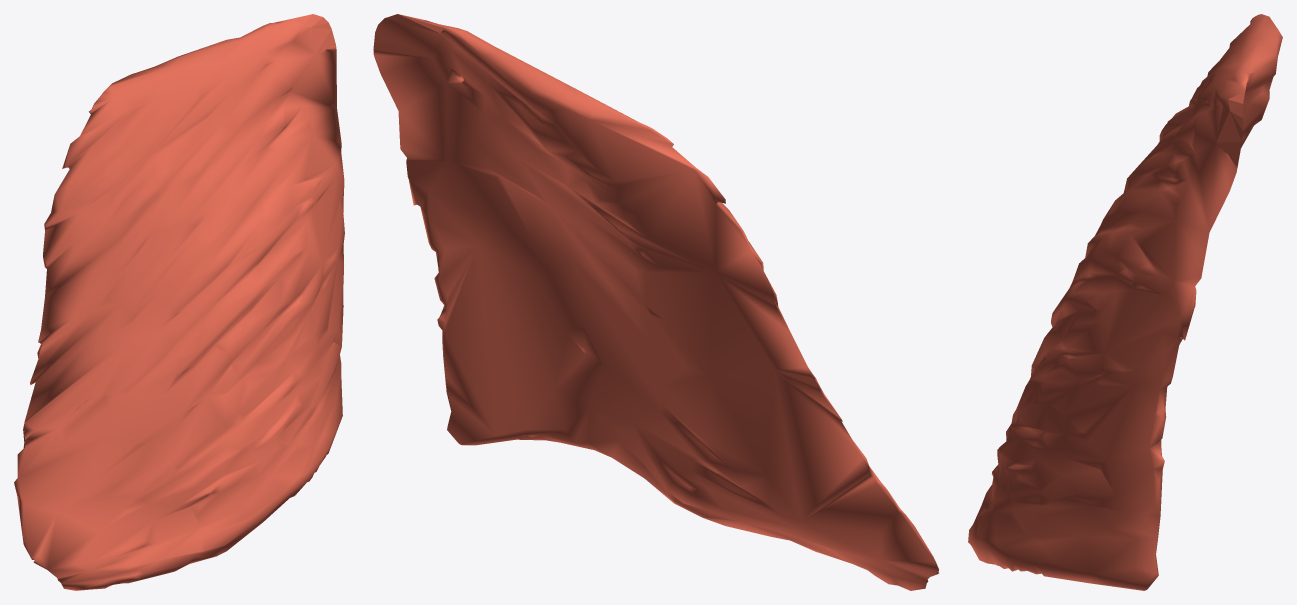
The model's file is pronator-quadratus.glb.
3 views of the same model, side by side, from view 1: azimuth 30°, elevation 25°; view 2: azimuth 150°, elevation 25°; view 3: azimuth 270°, elevation 25° (orthographic). The views are drawn at different scales.
Visible parts, largest first — view 1: Pronator quadratus.r; view 2: Pronator quadratus.r; view 3: Pronator quadratus.r.
Part boxes in pixels (bbox=[...]): Pronator quadratus.r: bbox=[14, 14, 344, 590]; Pronator quadratus.r: bbox=[373, 14, 938, 590]; Pronator quadratus.r: bbox=[968, 14, 1282, 590].
Bounding box in the file's own units: 0.047 × 0.0521 × 0.0247.
